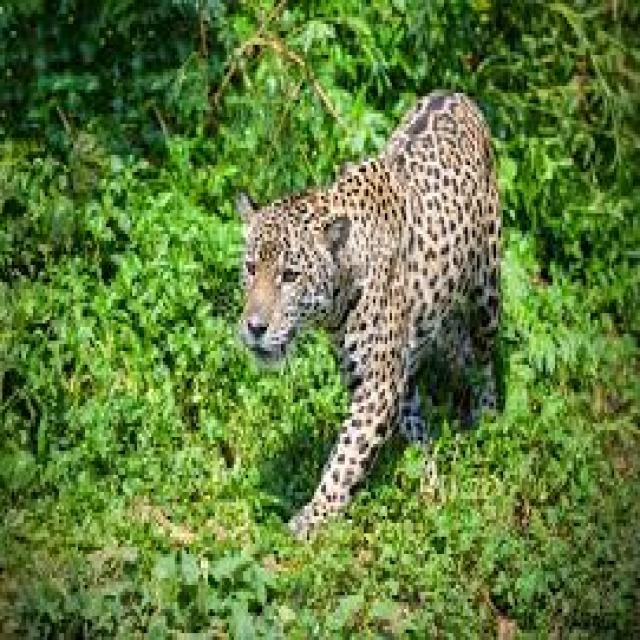Jaguar: (250, 83, 536, 523)
